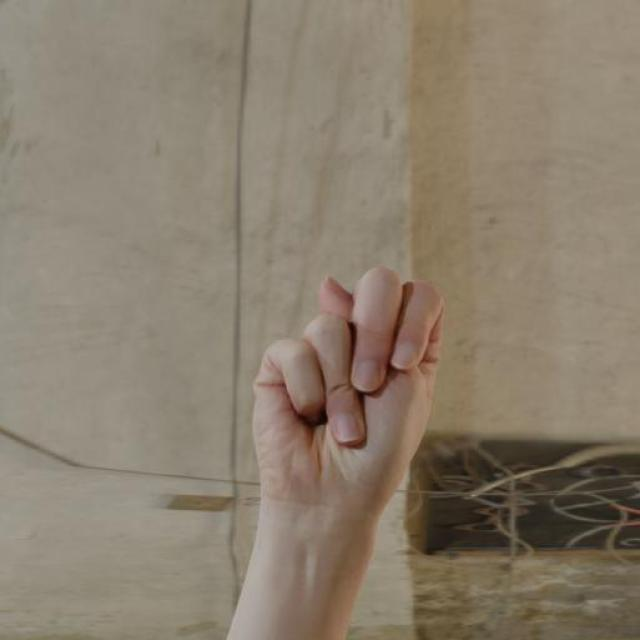N: (247, 264, 447, 520)
